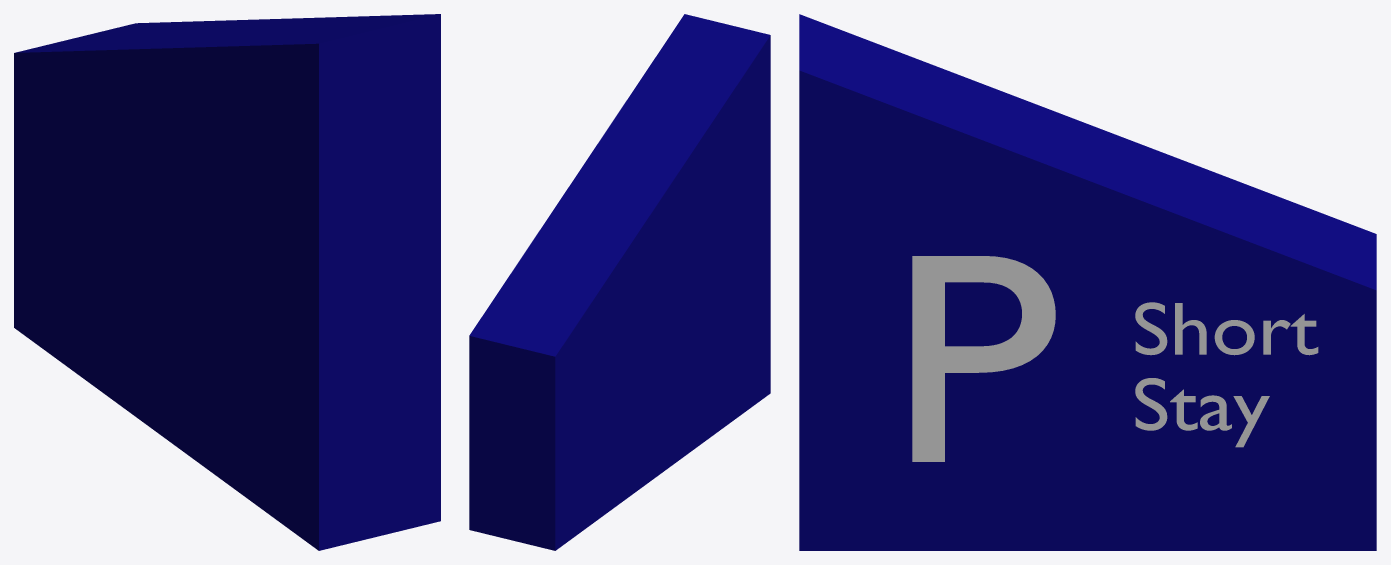
File: parking_short_stay.fbx
3 renders of one model, left to right at view 1: azimuth 30°, elevation 25°; view 2: azimuth 150°, elevation 25°; view 3: azimuth 270°, elevation 25°, orthographic. The views are drawn at different scales.
Parts seen in each view (by area): view 1: Cube; view 2: Cube; view 3: Cube, Text, Text.001.
Part boxes in pixels (x1,y1,x2,y2): Cube: (14,14,440,550); Cube: (469,14,770,550); Cube: (799,14,1376,550); Text: (912,256,1055,461); Text.001: (1135,302,1318,447).
Bounding box in the file's own units: 21.27 × 79.52 × 86.62.
